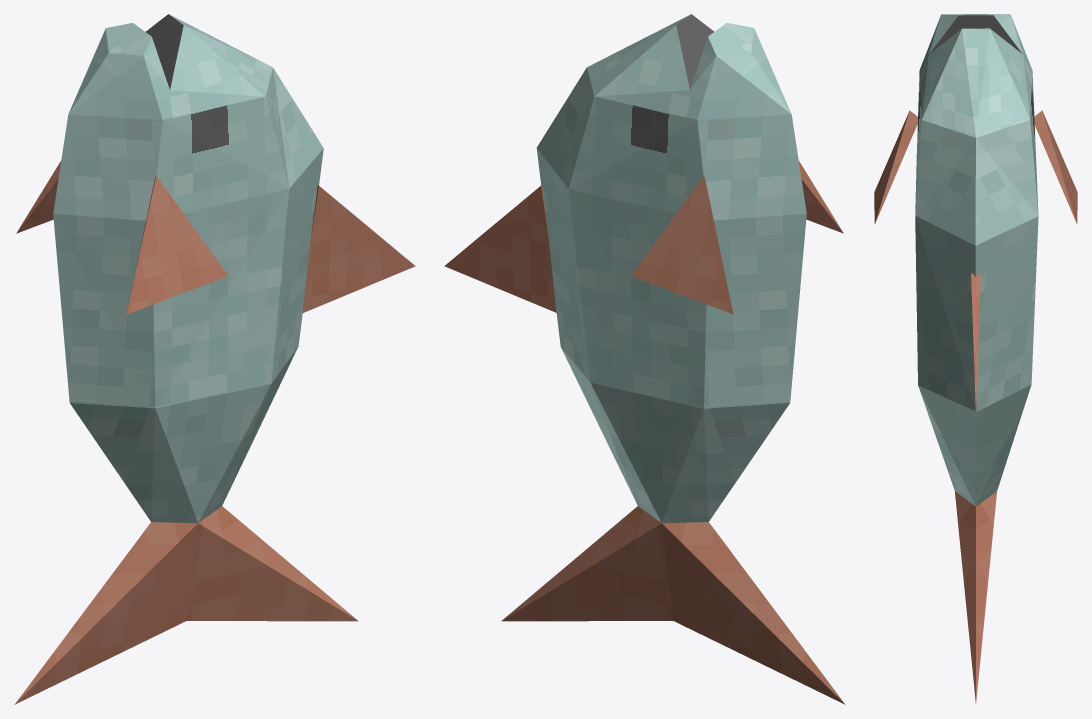
Rendered from Fish.glb.
The picture shows the model from 3 angles, left to right: view 1: azimuth 30°, elevation 25°; view 2: azimuth 150°, elevation 25°; view 3: azimuth 270°, elevation 25°; orthographic projection. The views are drawn at different scales.
Visible parts, largest first — view 1: Fish; view 2: Fish; view 3: Fish.
Boxes of the visible parts, bbox=[...] form: Fish: bbox=[14, 14, 415, 704]; Fish: bbox=[444, 14, 845, 704]; Fish: bbox=[874, 14, 1077, 702].
Bounding box in the file's own units: 0.4613 × 0.7098 × 0.2199.
Materials: 1 (1 with a texture image).
